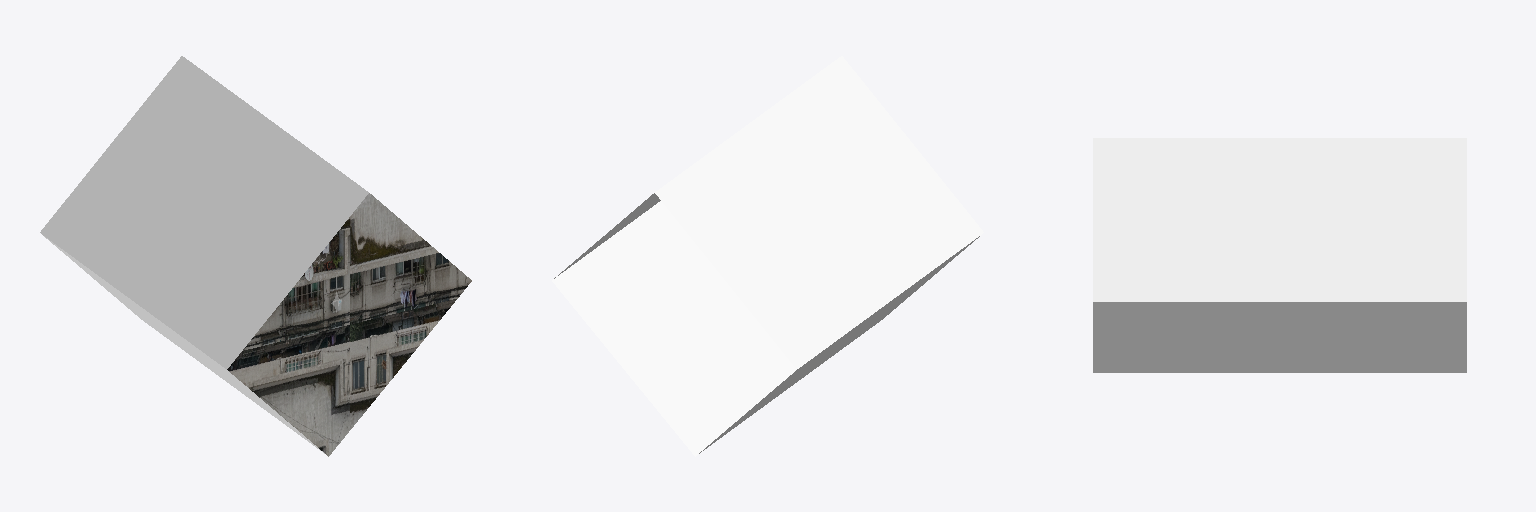
3 renders of one model, left to right at view 1: azimuth 30°, elevation 25°; view 2: azimuth 150°, elevation 25°; view 3: azimuth 270°, elevation 25°, orthographic.
Parts seen in each view (by area): view 1: Building; view 2: Building; view 3: Building.
Part boxes in pixels (x1,y1,x2,y2): Building: (40, 56, 471, 456); Building: (552, 56, 983, 456); Building: (1093, 138, 1466, 372).
Size of the model in its own units: 11.34 by 11.23 by 15.
2 materials, 1 textured.